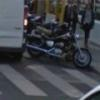motorcycles: (26, 20, 92, 69)
